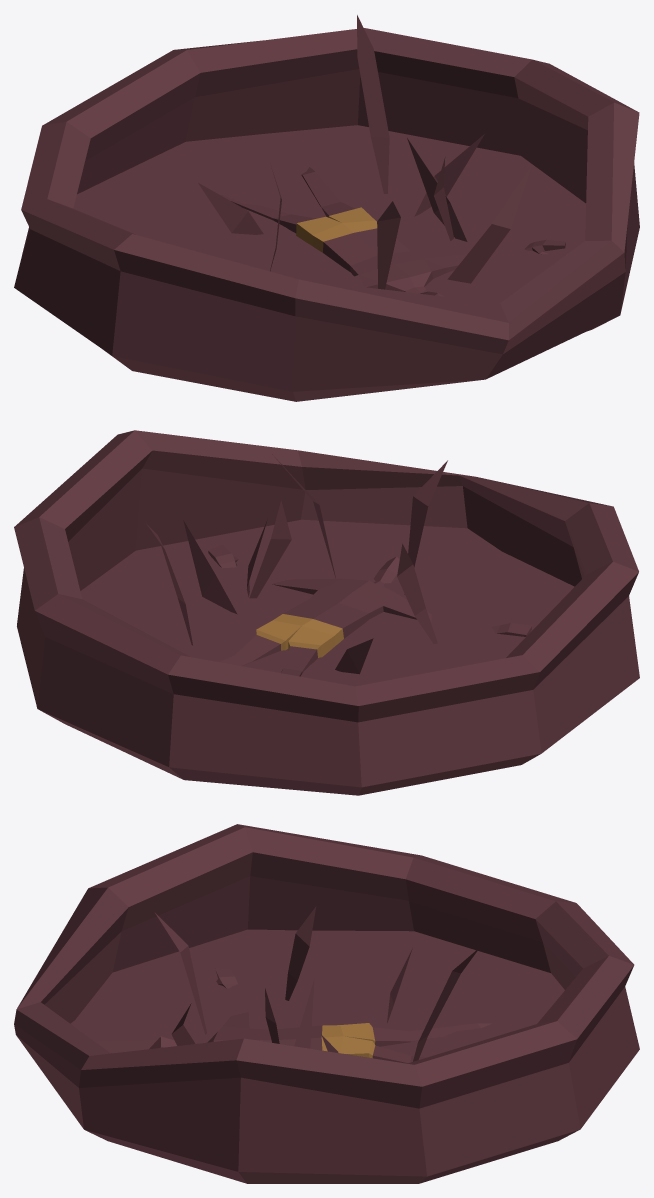
File: pool-inflatable-apocalypse.fbx
3 renders of one model, top to bottom at view 1: azimuth 30°, elevation 25°; view 2: azimuth 150°, elevation 25°; view 3: azimuth 270°, elevation 25°, orthographic. The views are drawn at different scales.
Visible parts, largest first — view 1: pool-inflatable-apocalypse-base, pool-inflatable-apocalypse-body; view 2: pool-inflatable-apocalypse-base, pool-inflatable-apocalypse-body; view 3: pool-inflatable-apocalypse-base, pool-inflatable-apocalypse-body.
Boxes of the visible parts, x1,y1,x2,y2 form: pool-inflatable-apocalypse-base: [14, 15, 639, 401]; pool-inflatable-apocalypse-body: [221, 167, 565, 296]; pool-inflatable-apocalypse-base: [14, 430, 639, 795]; pool-inflatable-apocalypse-body: [208, 544, 531, 676]; pool-inflatable-apocalypse-base: [14, 824, 639, 1183]; pool-inflatable-apocalypse-body: [149, 968, 492, 1063].
Bounding box in the file's own units: 2.9 × 0.9511 × 3.07.
